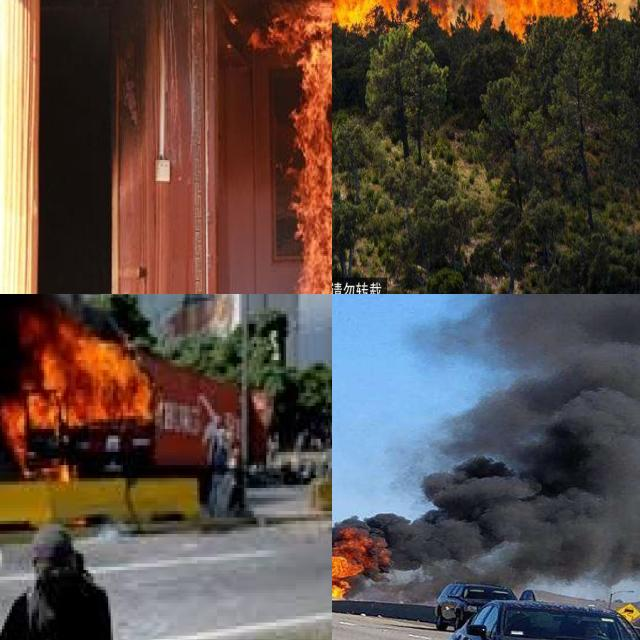fire: (0, 311, 160, 475), (261, 4, 332, 294), (332, 526, 398, 614)
smoke: (388, 294, 640, 575)
